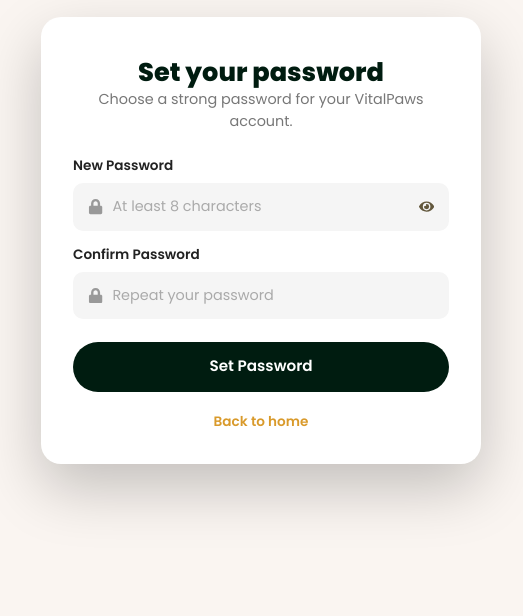
ResetPassword — error handling › shows a generic error when fetch itself throws
This screenshot has width=523, height=616.
Step 1. Type "Password1*" into the password field with placeholder "At least 8 characters" → (262, 207), box x1=112 y1=184 x2=411 y2=230
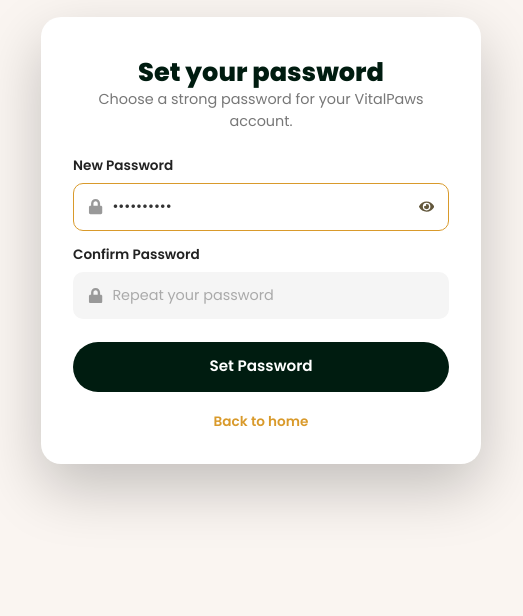
Step 2. Type "Password1*" into the password field with placeholder "Repeat your password" → (273, 296), box x1=112 y1=273 x2=434 y2=318
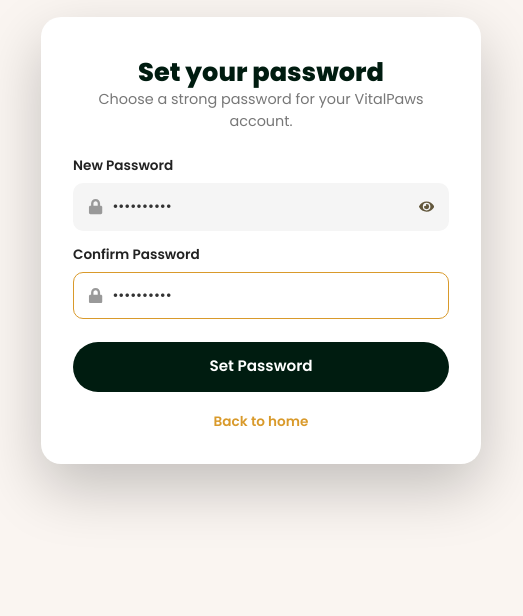
Step 3. Click the button "Set Password" → (261, 367), box x1=73 y1=342 x2=449 y2=392
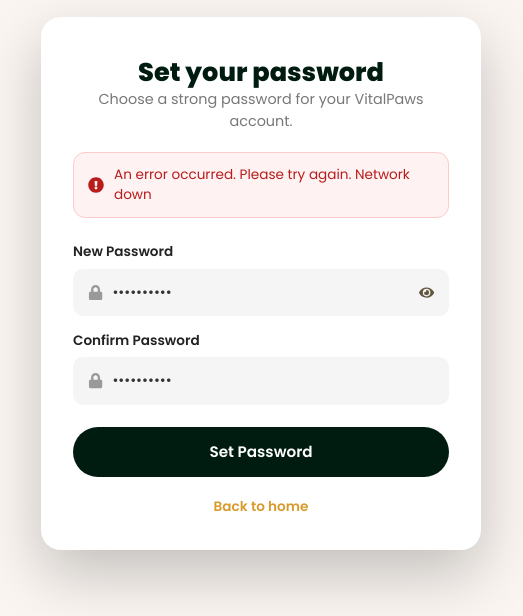
Result: the text "An error occurred. Please try again. Network down" is shown at x1=114 y1=165 x2=434 y2=205
